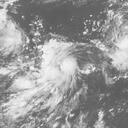cyclone: (38, 39, 96, 98), (109, 32, 127, 72)
